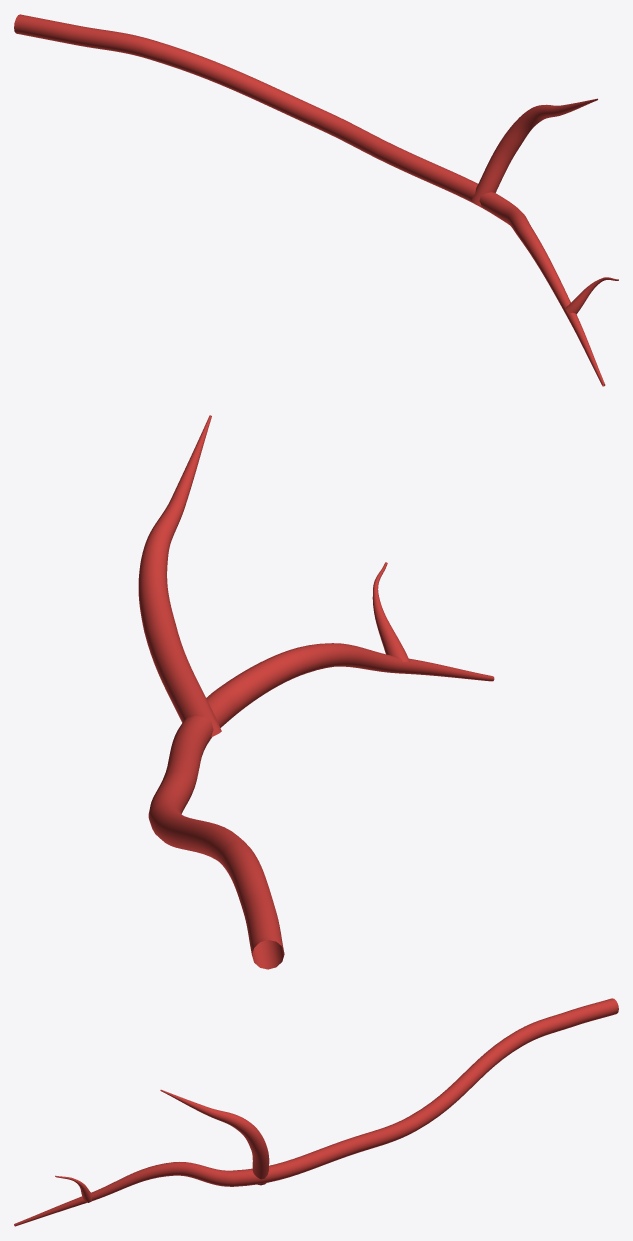
3 renders of one model, top to bottom at view 1: azimuth 30°, elevation 25°; view 2: azimuth 150°, elevation 25°; view 3: azimuth 270°, elevation 25°, orthographic. The views are drawn at different scales.
Visible parts, largest first — view 1: 左侧颞深前动脉; view 2: 左侧颞深前动脉; view 3: 左侧颞深前动脉.
Boxes of the visible parts, <box> form: 左侧颞深前动脉: <box>14,14,618,386</box>; 左侧颞深前动脉: <box>138,415,494,969</box>; 左侧颞深前动脉: <box>14,998,618,1226</box>.
Bounding box in the file's own units: 0.0326 × 0.0202 × 0.0653.
